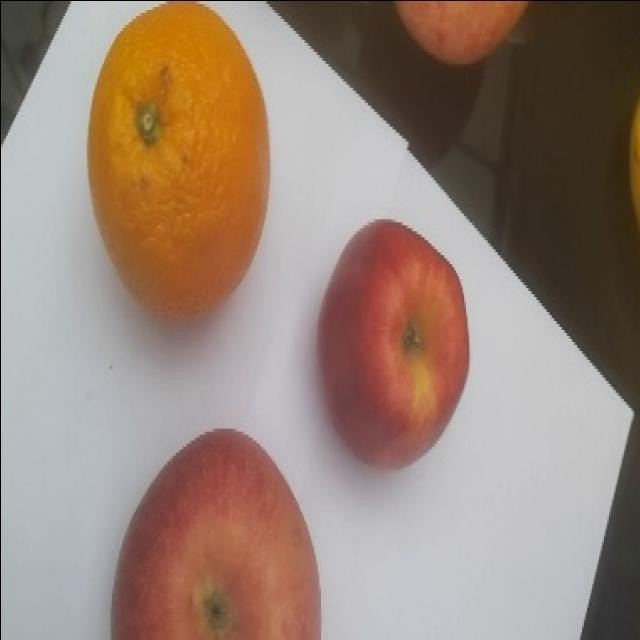Apple: (111, 427, 327, 640), (314, 217, 473, 469), (395, 0, 530, 66)
Orange: (90, 0, 272, 326)
